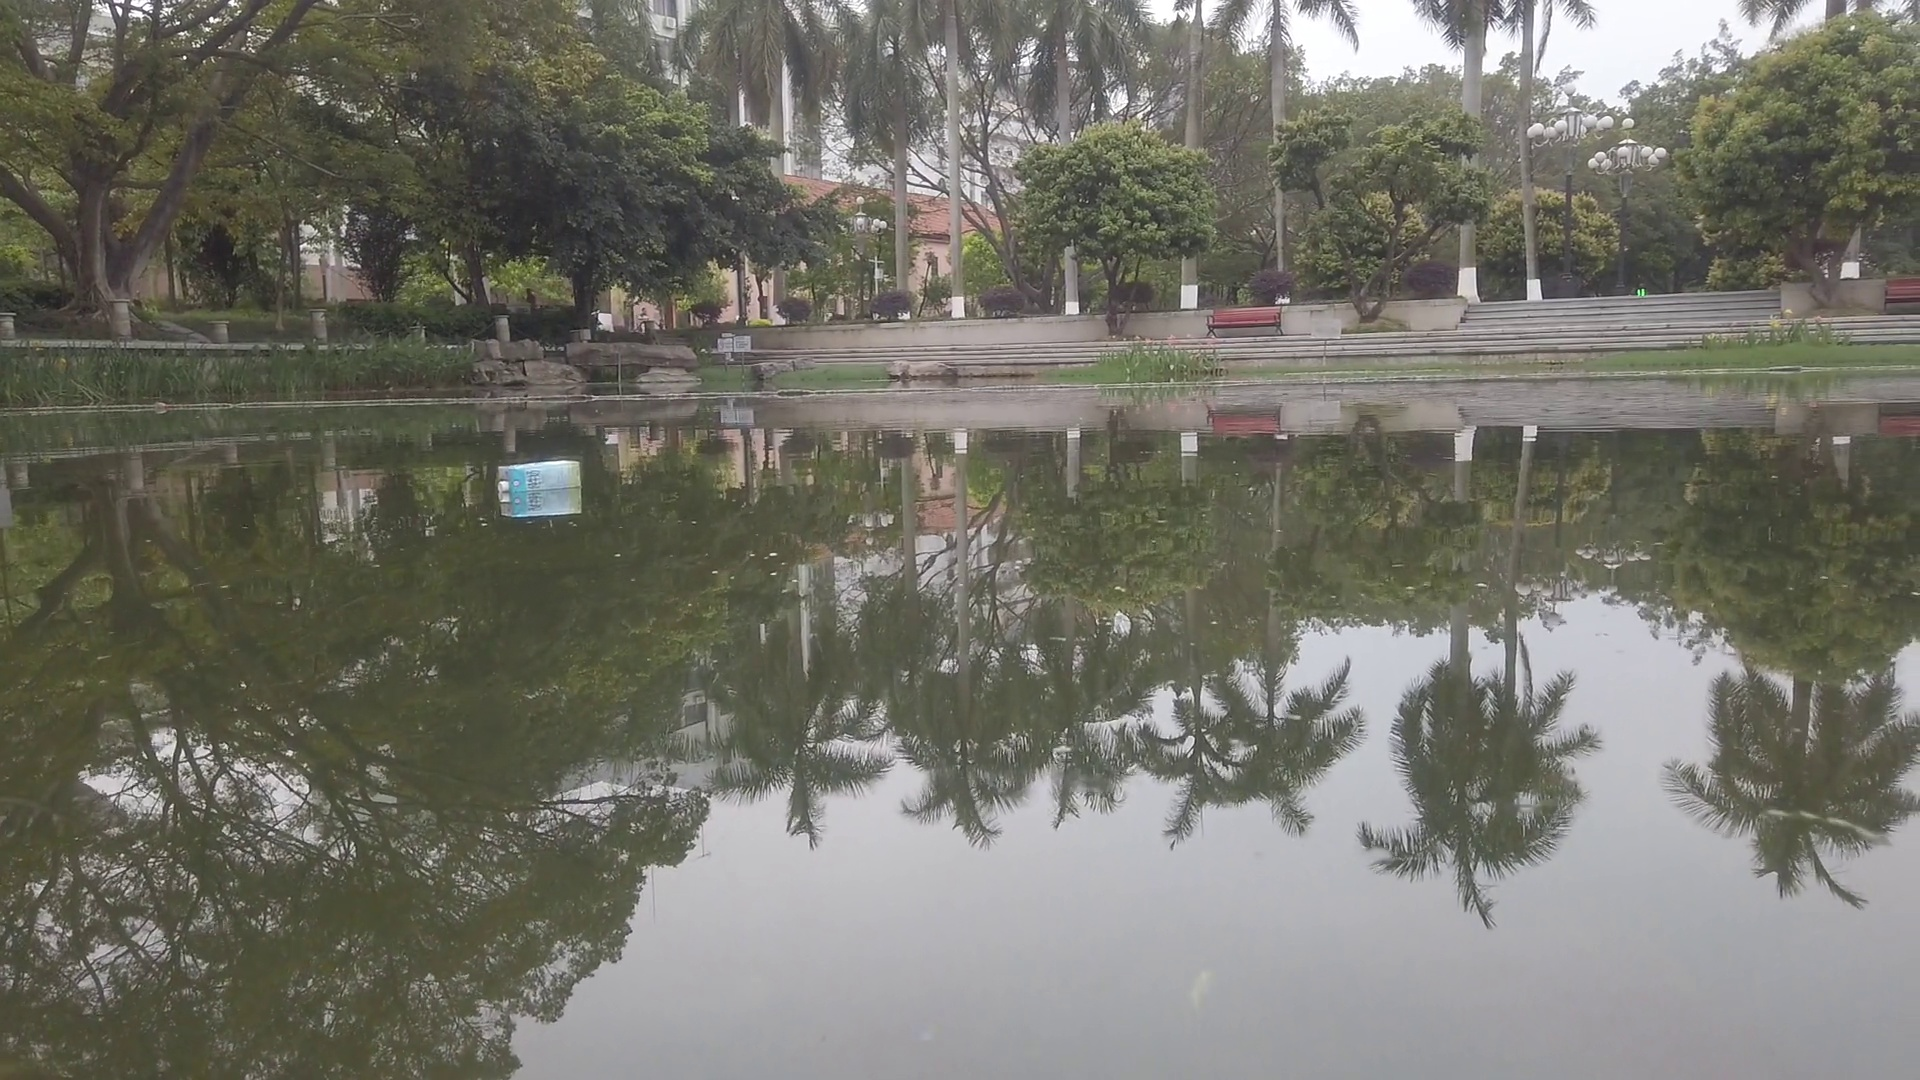carton: (496, 462, 580, 493)
